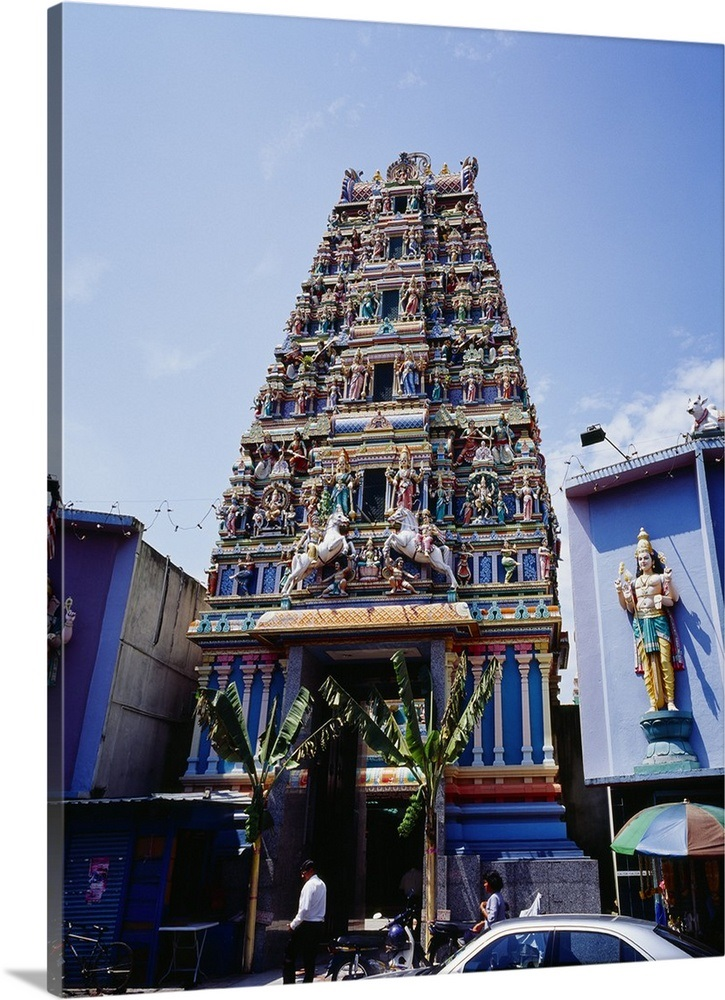Hindu Temple: (180, 142, 557, 819)
